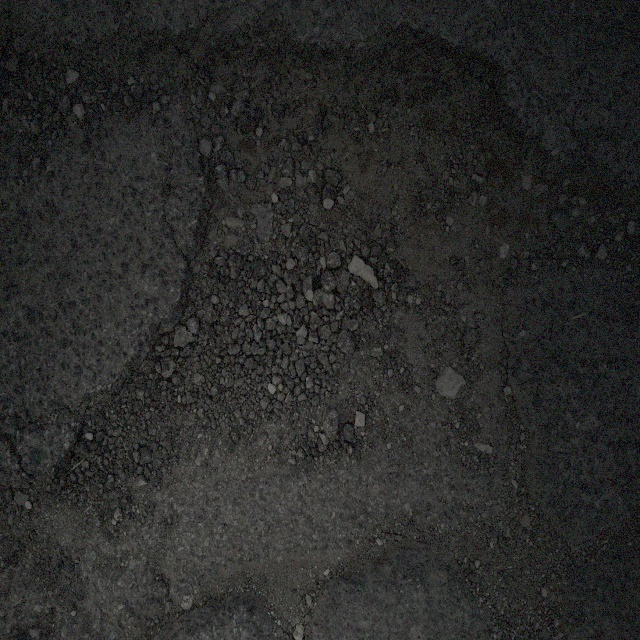pothole: (109, 26, 546, 391)
